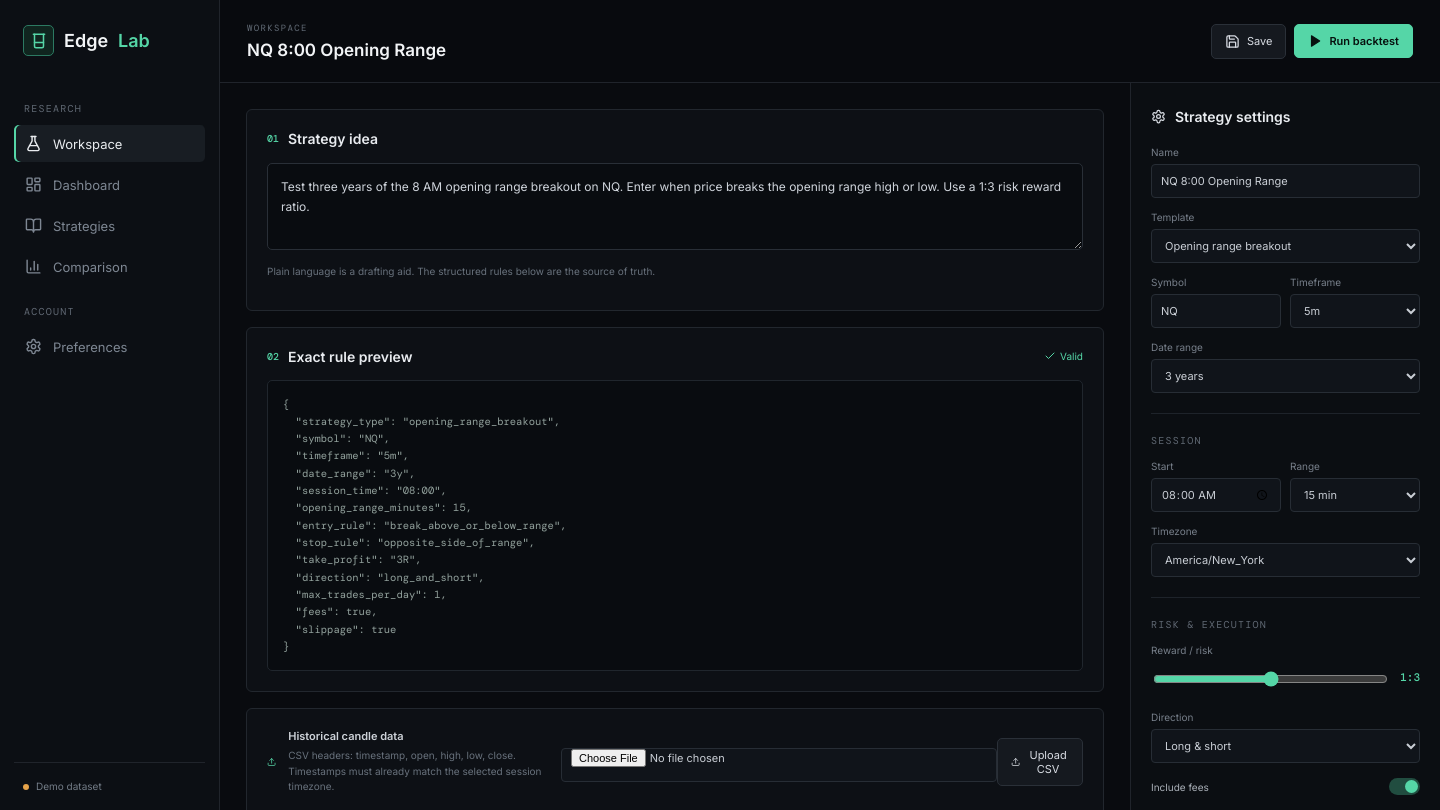
Test: EdgeLab research workflow › runs and persists an exact strategy configuration
The image size is (1440, 810).
Replace the text in the field labelled "Name" with "Verified ORB" at (1286, 181), box top-left (1151, 164), bottom-right (1420, 198)
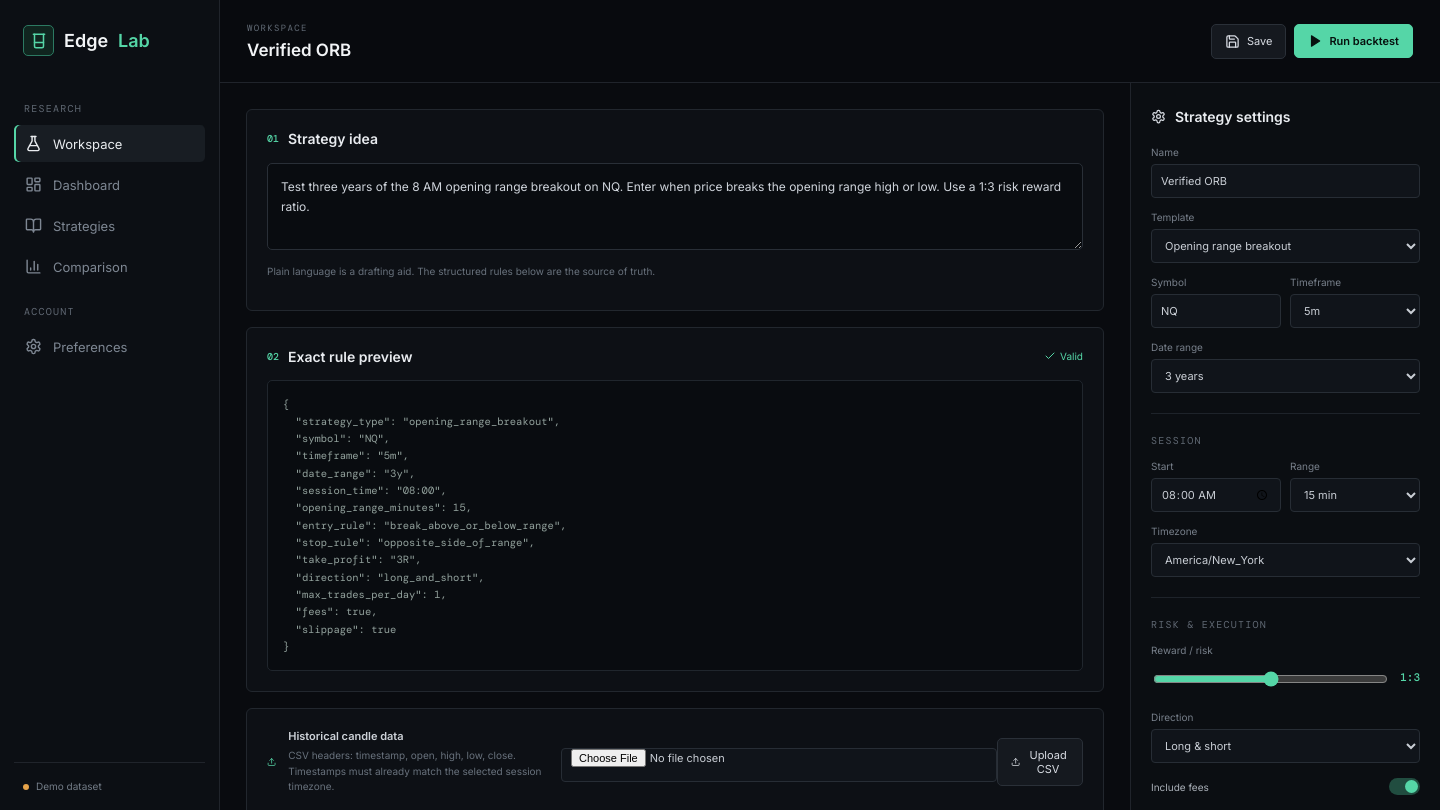
Replace the text in the field labelled "Symbol" with "ES" at (1216, 311), box top-left (1151, 294), bottom-right (1281, 328)
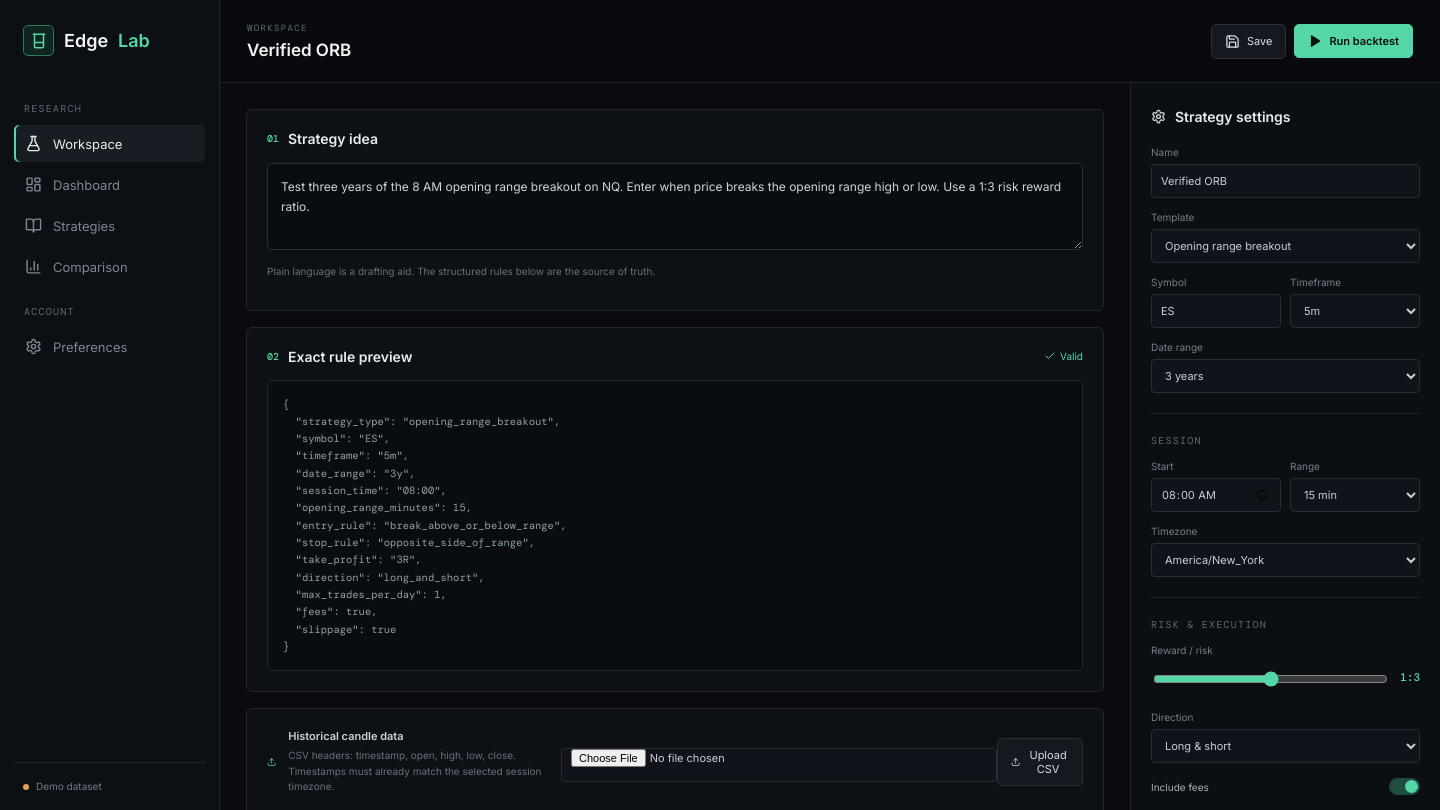
Click the button "Run backtest" at (1354, 41), box top-left (1294, 24), bottom-right (1413, 58)
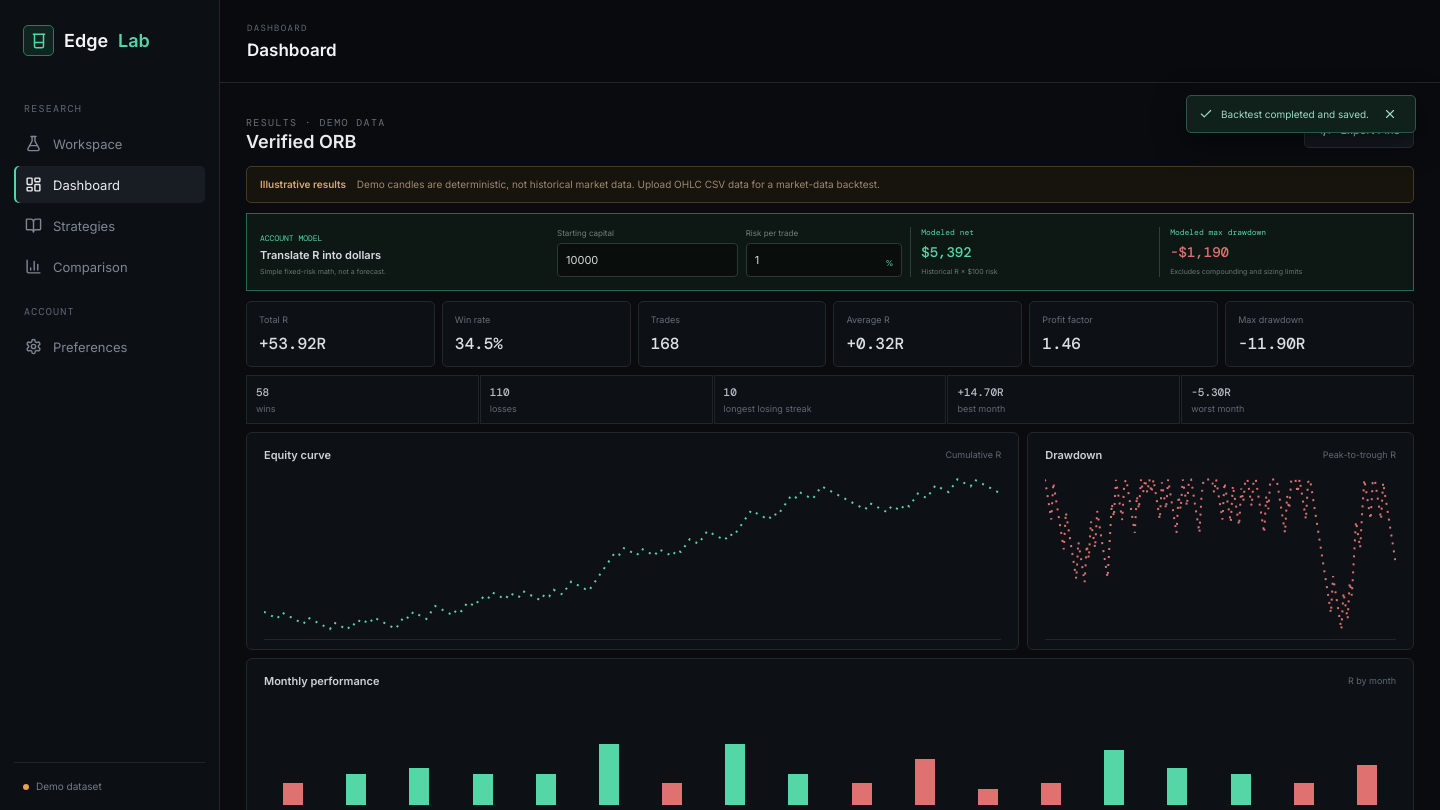
Result: the heading "Verified ORB" is shown at top-left (246, 130), bottom-right (356, 152)
Result: the text "RESULTS · DEMO DATA" is shown at top-left (246, 115), bottom-right (386, 130)
